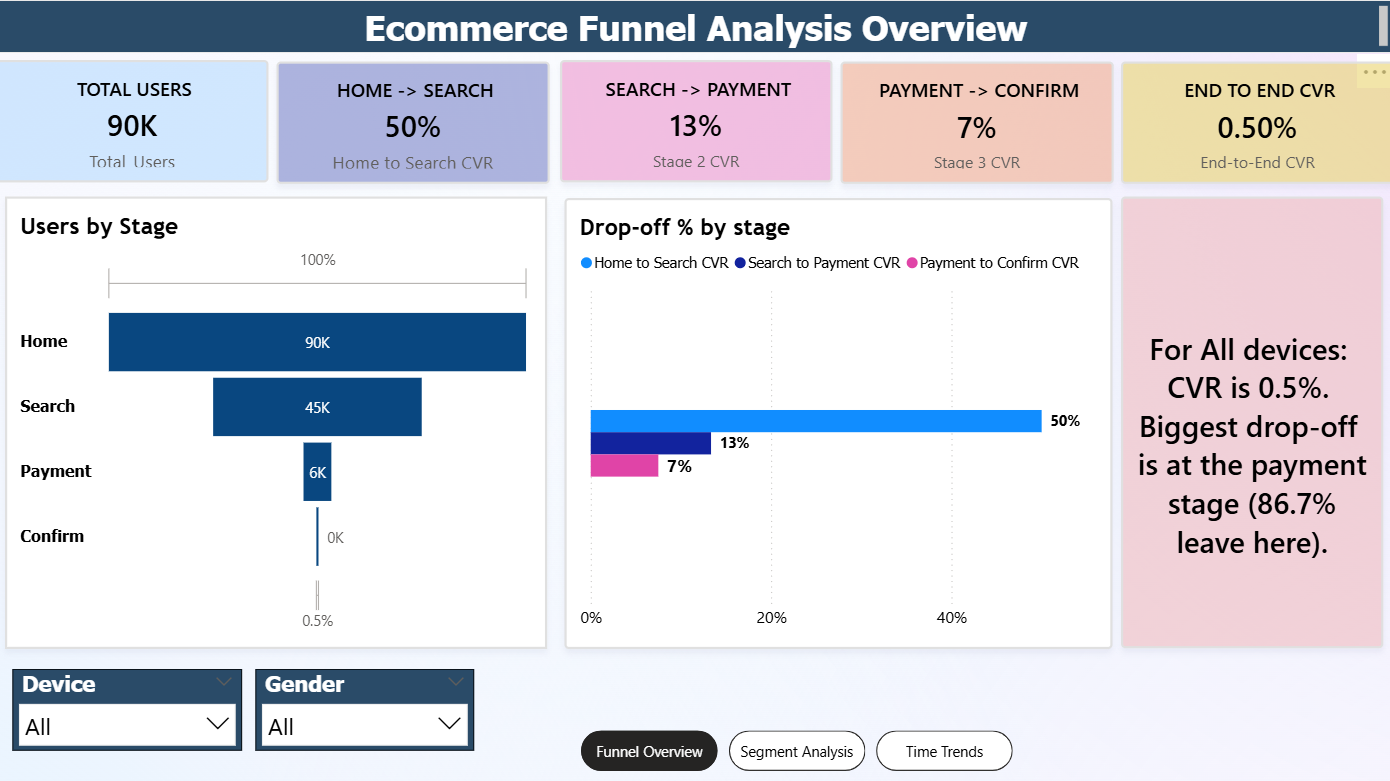

Layout of this report page (visuals, bound fields, positions):
{"tool":"powerbi","page":{"name":"Funnel Overview","canvas":[1280,720],"ordinal":0},"visuals":[{"type":"card","title":"TOTAL USERS","fields":{"Values":["Measure_Table.Total_Users"]},"box":[0,55.4,249.3,112.3],"z":0},{"type":"card","title":"HOME -> SEARCH","fields":{"Values":["Measure_Table.Home to Search CVR"]},"box":[257,56,249.8,112.1],"z":1000},{"type":"card","title":"SEARCH  -> PAYMENT","fields":{"Values":["Measure_Table.Search to Payment Rate"]},"box":[516.1,55.4,249.3,112.3],"z":2000},{"type":"textbox","box":[0,0,1278.5,48.1],"z":3000},{"type":"card","title":"PAYMENT -> CONFIRM","fields":{"Values":["Measure_Table.Payment to Confirm Rate"]},"box":[773,56,249.8,112.1],"z":4000},{"type":"card","title":"END TO END CVR","fields":{"Values":["Measure_Table.End-to-End CVR"]},"box":[1029.7,56,249.8,112.1],"z":5000},{"type":"clusteredBarChart","title":"Drop-off % by stage","fields":{"Y":["Measure_Table.Home to Search Rate","Measure_Table.Search to Payment Rate","Measure_Table.Payment to Confirm Rate"]},"box":[520.5,180.8,501.5,412.6],"z":6000},{"type":"slicer","fields":{"Values":["funnel_data.device"]},"box":[14.6,612.3,209.9,74.4],"z":7000},{"type":"slicer","fields":{"Values":["funnel_data.sex"]},"box":[237.6,612.3,199.7,74.4],"z":8000},{"type":"bookmarkNavigator","box":[535,667.7,398,37.9],"z":9000},{"type":"funnel","title":"Users by Stage","fields":{"Category":["funnel_data.Stage"],"Y":["Measure_Table.Funnel Users"]},"box":[8.7,179.3,495.7,414],"z":10000},{"type":"card","title":"END TO END CVR","fields":{"Values":["Measure_Table.Insight Text"]},"box":[1029.2,179.8,240.2,413.1],"z":11000}]}

Visuals, with their boxes in screenshot pixels (x1, y1, x2, y2), scaled from the page's 1280x720 canvas onto the 1390x781 screenshot:
"TOTAL USERS" card: x1=0, y1=60, x2=271, y2=182
"HOME -> SEARCH" card: x1=279, y1=61, x2=550, y2=182
"SEARCH  -> PAYMENT" card: x1=560, y1=60, x2=831, y2=182
textbox: x1=0, y1=0, x2=1388, y2=52
"PAYMENT -> CONFIRM" card: x1=839, y1=61, x2=1111, y2=182
"END TO END CVR" card: x1=1118, y1=61, x2=1389, y2=182
"Drop-off % by stage" clusteredBarChart: x1=565, y1=196, x2=1110, y2=644
slicer - funnel_data.device: x1=16, y1=664, x2=244, y2=745
slicer - funnel_data.sex: x1=258, y1=664, x2=475, y2=745
bookmarkNavigator: x1=581, y1=724, x2=1013, y2=765
"Users by Stage" funnel: x1=9, y1=194, x2=548, y2=644
"END TO END CVR" card: x1=1118, y1=195, x2=1378, y2=643
